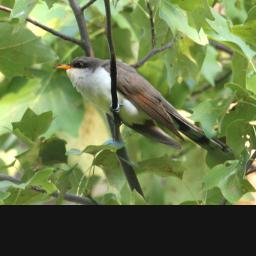Cuckoo: (57, 52, 235, 154)
